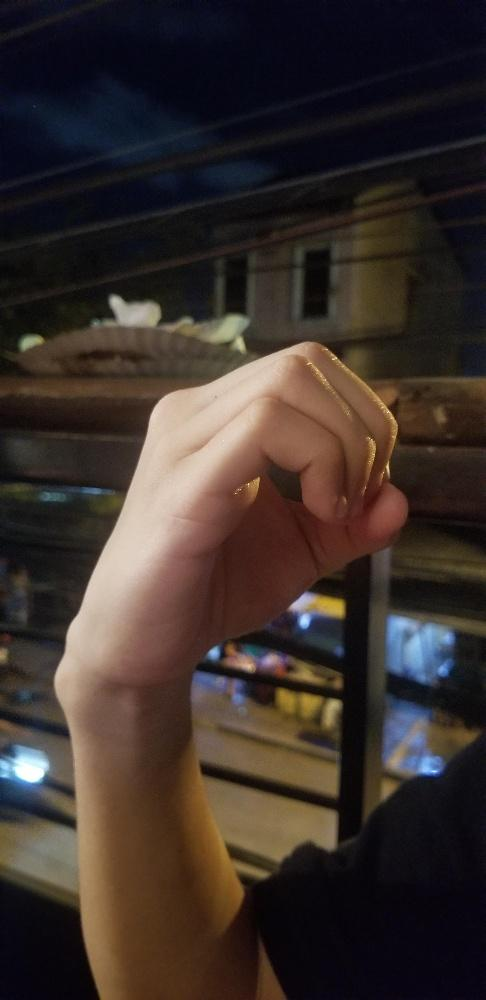o: (51, 335, 409, 691)
